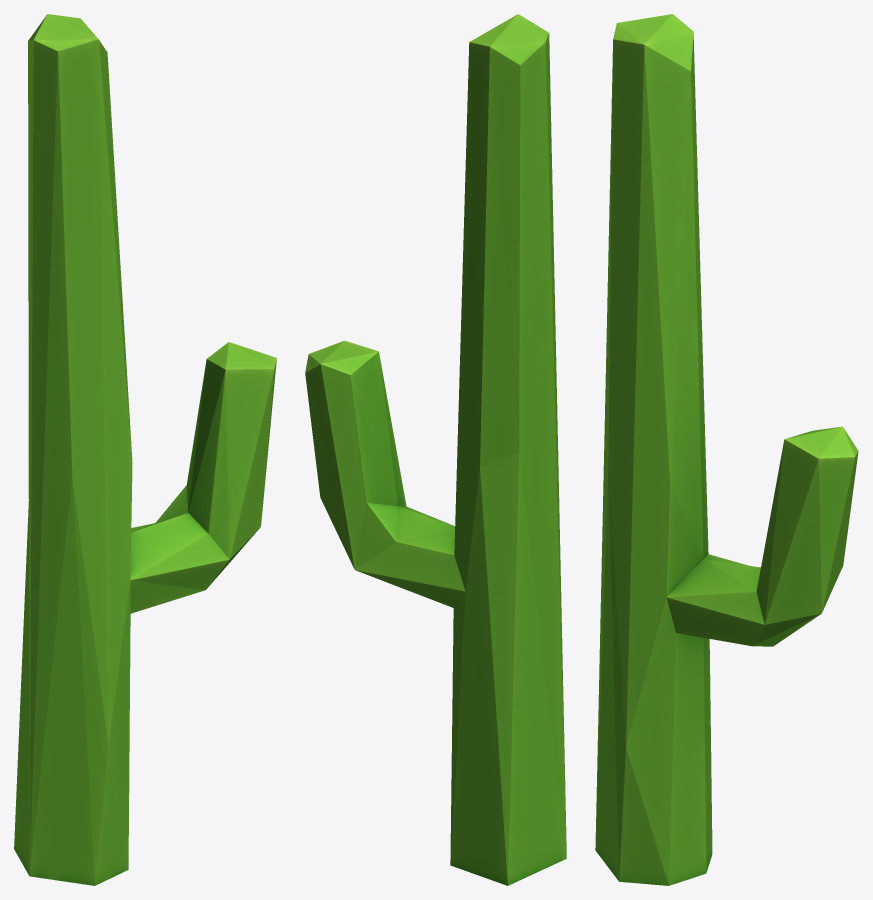
Rendered from Cactus_18.fbx.
3 views of the same model, side by side, from view 1: azimuth 30°, elevation 25°; view 2: azimuth 150°, elevation 25°; view 3: azimuth 330°, elevation 25° (orthographic).
Visible parts, largest first — view 1: Cactus_18; view 2: Cactus_18; view 3: Cactus_18.
Boxes of the visible parts, <box> form: Cactus_18: <box>14,14,276,885</box>; Cactus_18: <box>305,14,566,885</box>; Cactus_18: <box>595,14,858,885</box>.
Bounding box in the file's own units: 35.2 × 111 × 14.79.
